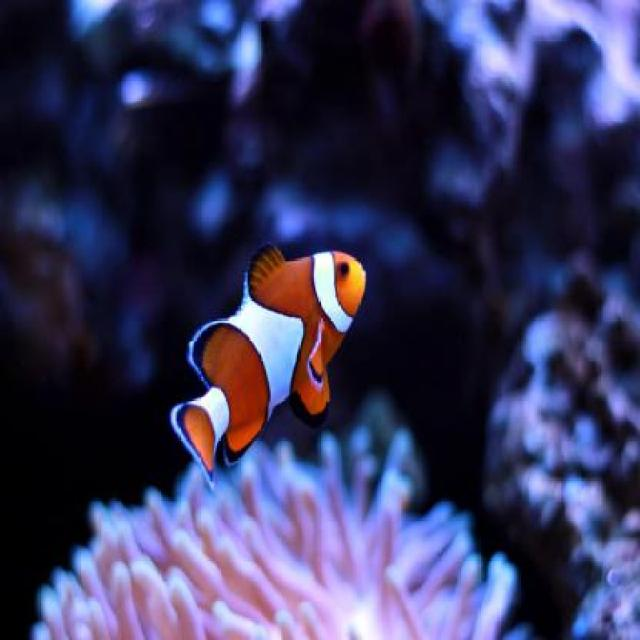ClownFish: (164, 245, 364, 484)
